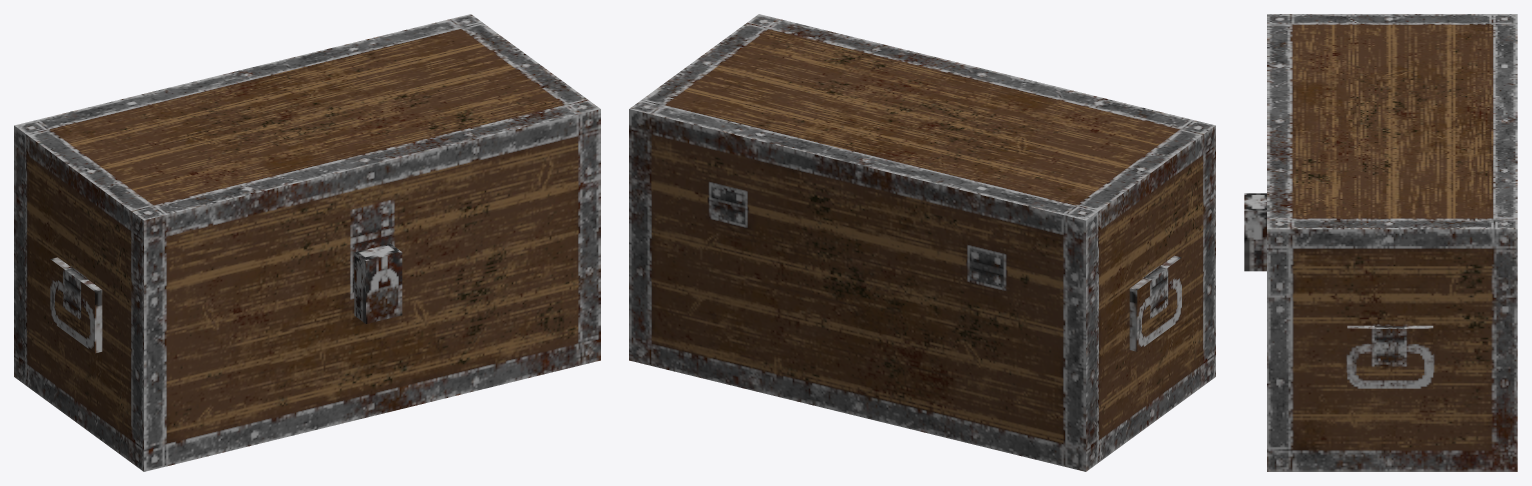
Rendered from SM_StashChest.fbx.
3 renders of one model, left to right at view 1: azimuth 30°, elevation 25°; view 2: azimuth 150°, elevation 25°; view 3: azimuth 270°, elevation 25°, orthographic. The views are drawn at different scales.
Visible parts, largest first — view 1: SM_StashChest; view 2: SM_StashChest; view 3: SM_StashChest.
Boxes of the visible parts, box(x1,y1,x2,y2) form: SM_StashChest: box(14, 14, 600, 471); SM_StashChest: box(629, 14, 1215, 471); SM_StashChest: box(1244, 14, 1517, 471).
Bounding box in the file's own units: 100 × 50.9 × 52.
Materials: 1 (1 with a texture image).
